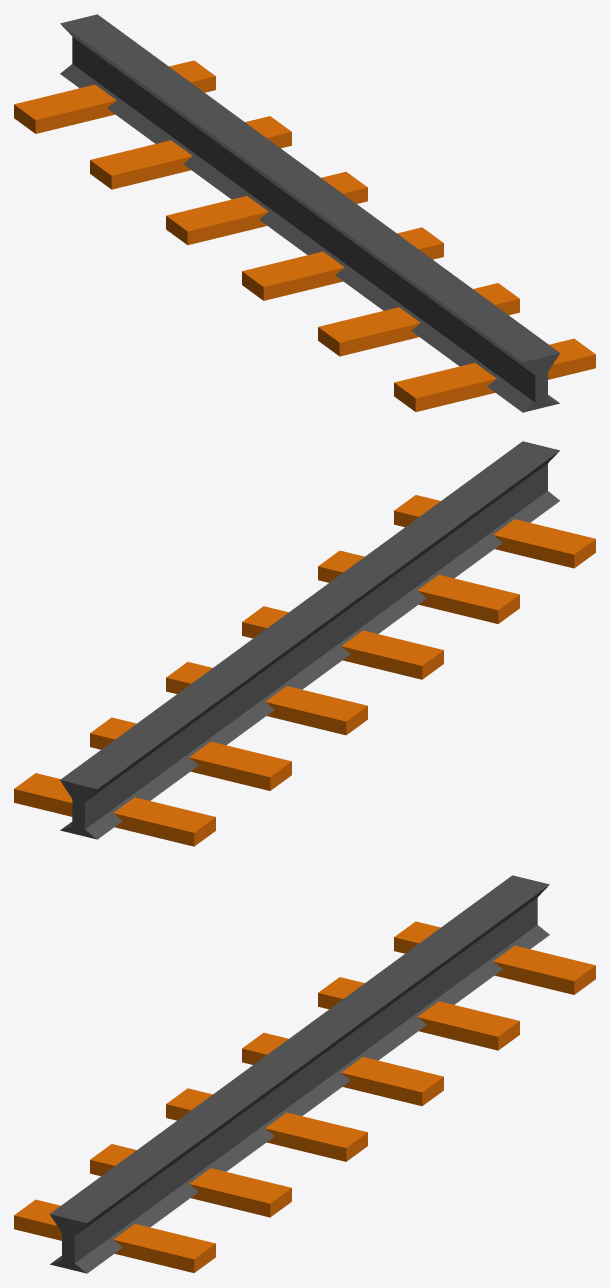
The model's file is rail.fbx.
3 views of the same model, one above another, from view 1: azimuth 30°, elevation 25°; view 2: azimuth 150°, elevation 25°; view 3: azimuth 330°, elevation 25° (orthographic).
Parts seen in each view (by area): view 1: Cube, Cube.006, Cube.003, Cube.005, Cube.001, Cube.002, Cube.004; view 2: Cube, Cube.001, Cube.002, Cube.004, Cube.006, Cube.005, Cube.003; view 3: Cube, Cube.006, Cube.003, Cube.005, Cube.001, Cube.002, Cube.004.
Part boxes in pixels (x1,y1,x2,y2): Cube: (60,14,559,412); Cube.006: (394,338,595,411); Cube.003: (166,171,367,245); Cube.005: (318,283,519,356); Cube.001: (14,60,215,133); Cube.002: (90,116,291,189); Cube.004: (242,227,443,300); Cube: (60,441,559,839); Cube.001: (14,773,215,846); Cube.002: (90,717,291,790); Cube.004: (242,606,443,679); Cube.006: (394,495,595,568); Cube.005: (318,550,519,623); Cube.003: (166,662,367,735); Cube: (50,875,549,1273); Cube.006: (14,1199,215,1272); Cube.003: (242,1032,443,1106); Cube.005: (90,1144,291,1217); Cube.001: (394,921,595,994); Cube.002: (318,977,519,1050); Cube.004: (166,1088,367,1161).
Bounding box in the file's own units: 958 × 298 × 4263.
